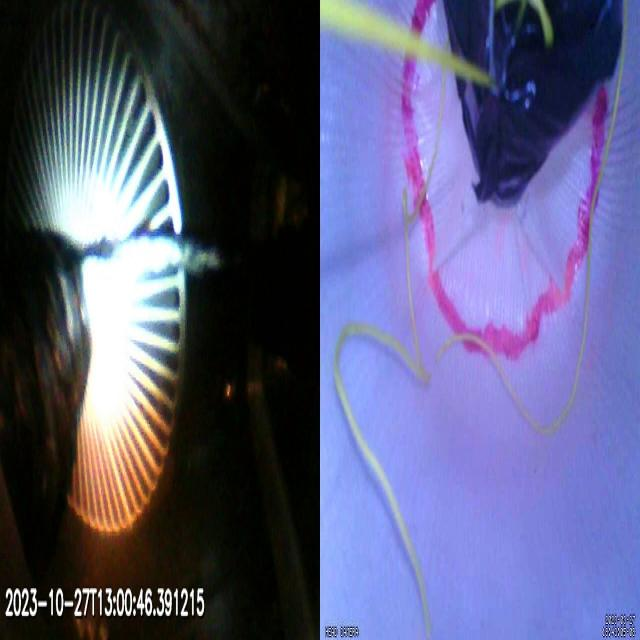red-circle: (402, 4, 610, 360)
